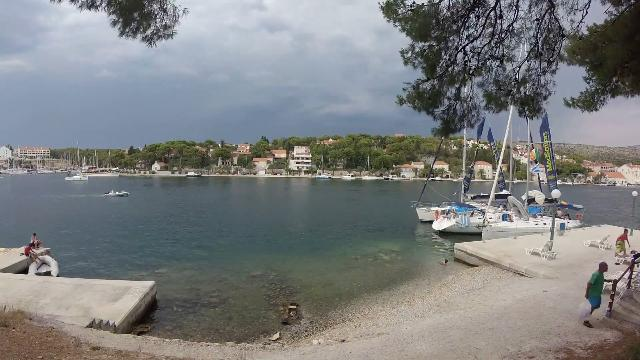Sailboat: (62, 168, 90, 184)
speedboat: (102, 187, 134, 197)
